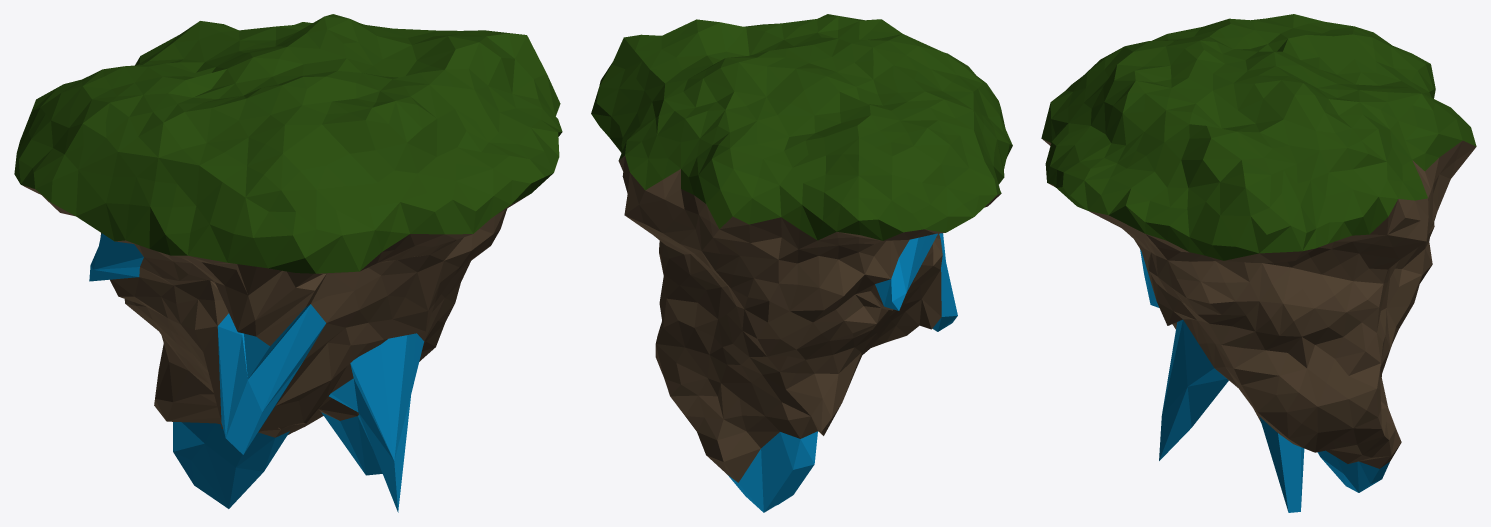
The model's file is floatingIsland.glb.
The picture shows the model from 3 angles, left to right: view 1: azimuth 30°, elevation 25°; view 2: azimuth 150°, elevation 25°; view 3: azimuth 270°, elevation 25°; orthographic projection. The views are drawn at different scales.
Visible parts, largest first — view 1: Icosphere; view 2: Icosphere; view 3: Icosphere.
Boxes of the visible parts, x1,y1,x2,y2 form: Icosphere: (14, 14, 562, 512); Icosphere: (591, 14, 1012, 512); Icosphere: (1041, 14, 1476, 512).
Bounding box in the file's own units: 14385 × 14010 × 12656.
